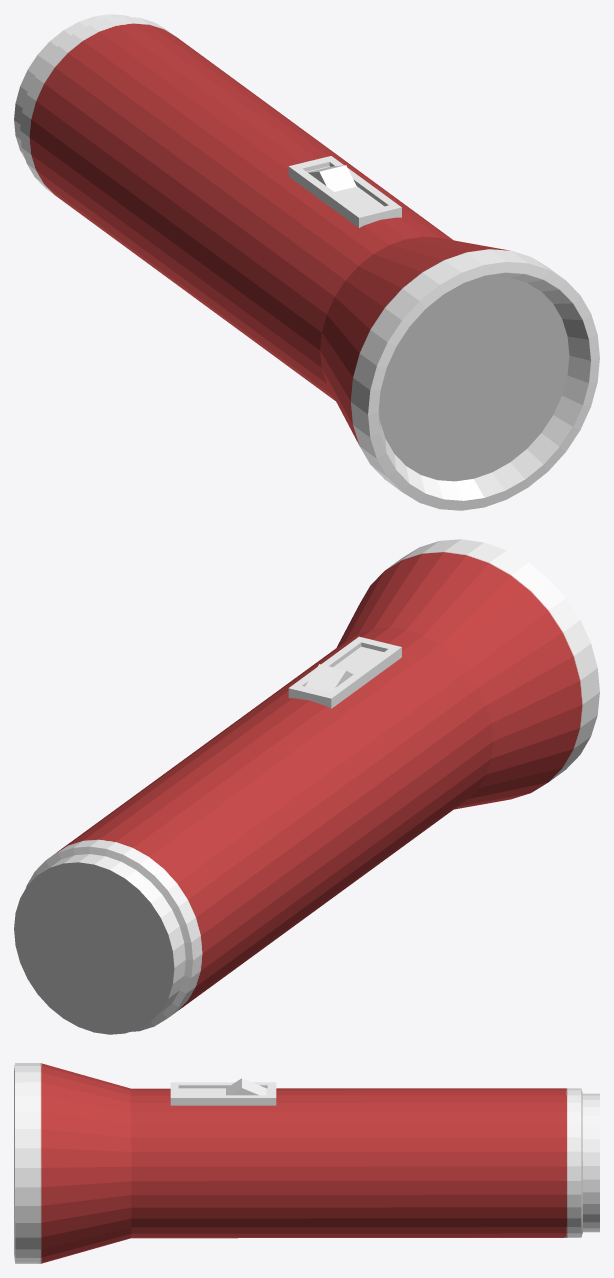
The model's file is senter.fbx.
The picture shows the model from 3 angles, top to bottom: view 1: azimuth 30°, elevation 25°; view 2: azimuth 150°, elevation 25°; view 3: azimuth 270°, elevation 25°; orthographic projection. The views are drawn at different scales.
Visible parts, largest first — view 1: Cylinder, Cube, Cube.001; view 2: Cylinder, Cube, Cube.001; view 3: Cylinder, Cube, Cube.001.
Boxes of the visible parts, x1,y1,x2,y2 form: Cylinder: (14,14,599,510); Cube: (288,156,401,227); Cube.001: (308,165,356,191); Cylinder: (14,539,599,1034); Cube: (288,636,401,708); Cube.001: (305,664,353,692); Cylinder: (14,1063,599,1263); Cube: (170,1082,276,1105); Cube.001: (226,1078,266,1095).
Bounding box in the file's own units: 163 × 163 × 476.
Materials: 3 (3 with a texture image).
